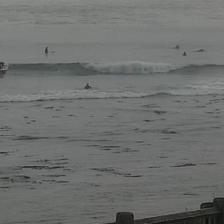surfer: (84, 84, 92, 90), (196, 48, 205, 52), (0, 62, 6, 67), (174, 45, 180, 50), (44, 47, 48, 54), (183, 51, 187, 56)
